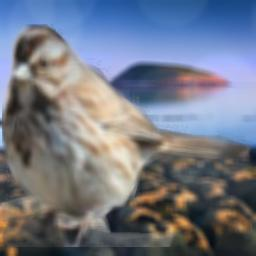Sparrow: (2, 24, 250, 247)
